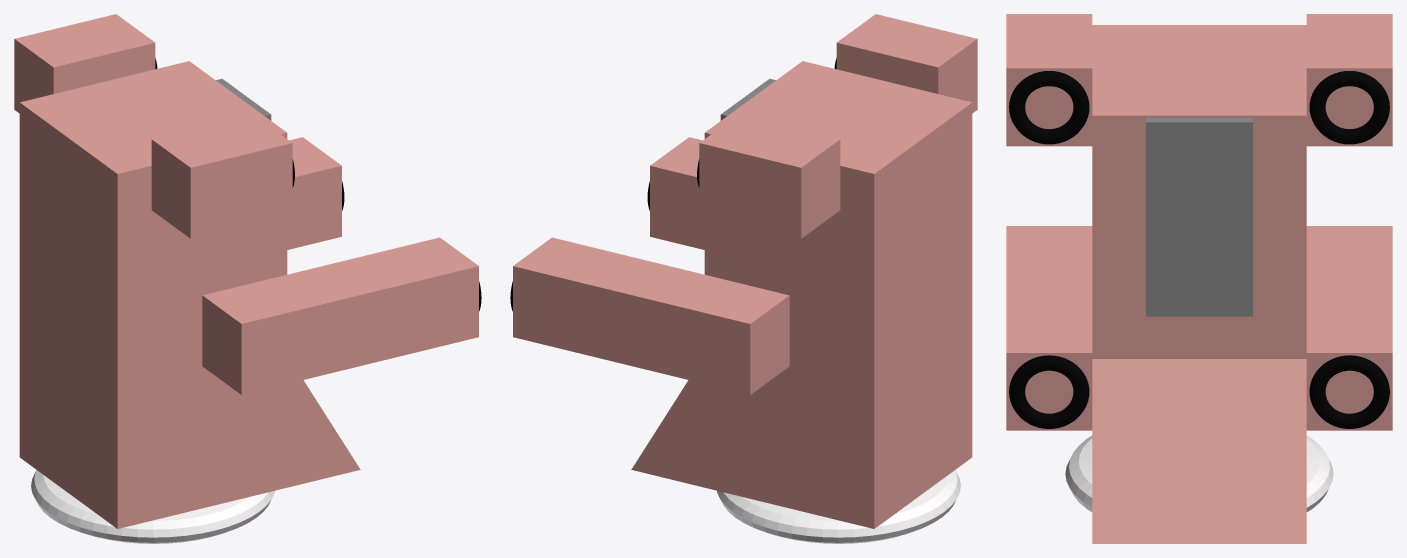
File: PlayerModel.dae
3 renders of one model, left to right at view 1: azimuth 30°, elevation 25°; view 2: azimuth 150°, elevation 25°; view 3: azimuth 270°, elevation 25°, orthographic. The views are drawn at different scales.
Parts seen in each view (by area): view 1: Cube, Cube.001, Cube.003, Cylinder, Cube.004, Torus, Cube.002; view 2: Cube, Cube.002, Cube.004, Cube.003, Torus, Cylinder, Cube.001; view 3: Cube, Cylinder, Cube.005, Cube.002, Cube.001, Cube.004, Cube.003, Torus.002, Torus.001, Torus.004, Torus.003, Torus.
Boxes of the visible parts, bbox=[...] form: Cube: bbox=[19, 61, 287, 528]; Cube.001: bbox=[202, 237, 478, 394]; Cube.003: bbox=[151, 114, 292, 238]; Cylinder: bbox=[214, 380, 360, 505]; Cube.004: bbox=[14, 14, 155, 113]; Torus: bbox=[31, 470, 274, 543]; Cube.002: bbox=[287, 137, 341, 249]; Cube: bbox=[704, 61, 972, 528]; Cube.002: bbox=[513, 237, 789, 394]; Cube.004: bbox=[699, 114, 840, 238]; Cube.003: bbox=[836, 14, 977, 113]; Torus: bbox=[717, 470, 960, 543]; Cylinder: bbox=[631, 380, 766, 500]; Cube.001: bbox=[650, 137, 704, 249]; Cube: bbox=[1092, 25, 1306, 358]; Cylinder: bbox=[1092, 359, 1306, 543]; Cube.005: bbox=[1146, 117, 1252, 316]; Cube.002: bbox=[1306, 226, 1392, 430]; Cube.001: bbox=[1006, 226, 1092, 430]; Cube.004: bbox=[1306, 14, 1392, 146]; Cube.003: bbox=[1006, 14, 1092, 146]; Torus.002: bbox=[1009, 71, 1089, 144]; Torus.001: bbox=[1309, 71, 1389, 144]; Torus.004: bbox=[1009, 355, 1089, 428]; Torus.003: bbox=[1309, 355, 1389, 428]; Torus: bbox=[1065, 435, 1333, 511].
Size of the model in its own units: 2.06 by 1.8 by 2.3.
